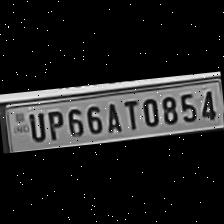0: (138, 93, 160, 127)
4: (196, 86, 218, 120)
5: (178, 88, 198, 124)
6: (83, 100, 104, 136), (62, 104, 83, 138)
8: (158, 91, 178, 125)
A: (102, 99, 123, 134)
P: (44, 106, 64, 142)
T: (120, 96, 140, 130)
U: (25, 108, 47, 142)
